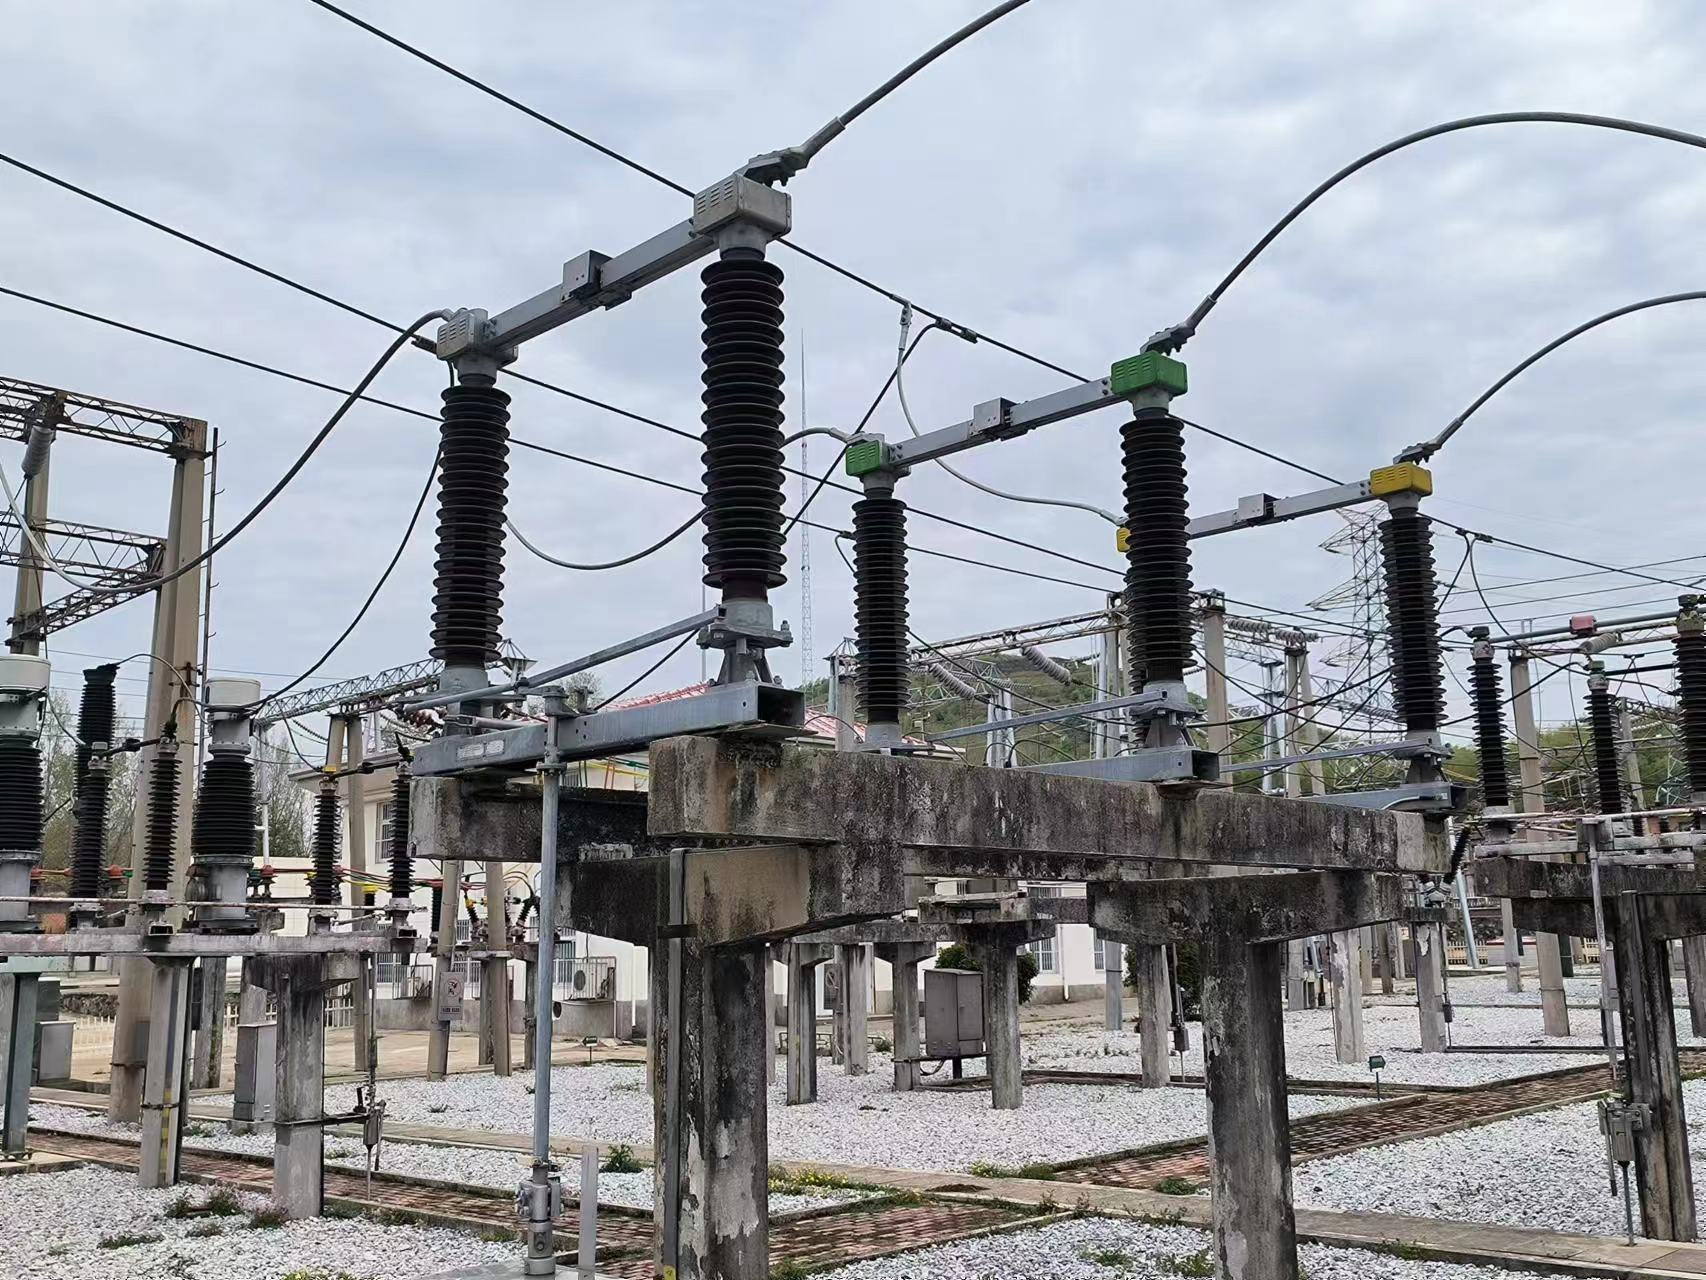Disconnecting link: (355, 149, 816, 696), (843, 346, 1225, 777)
